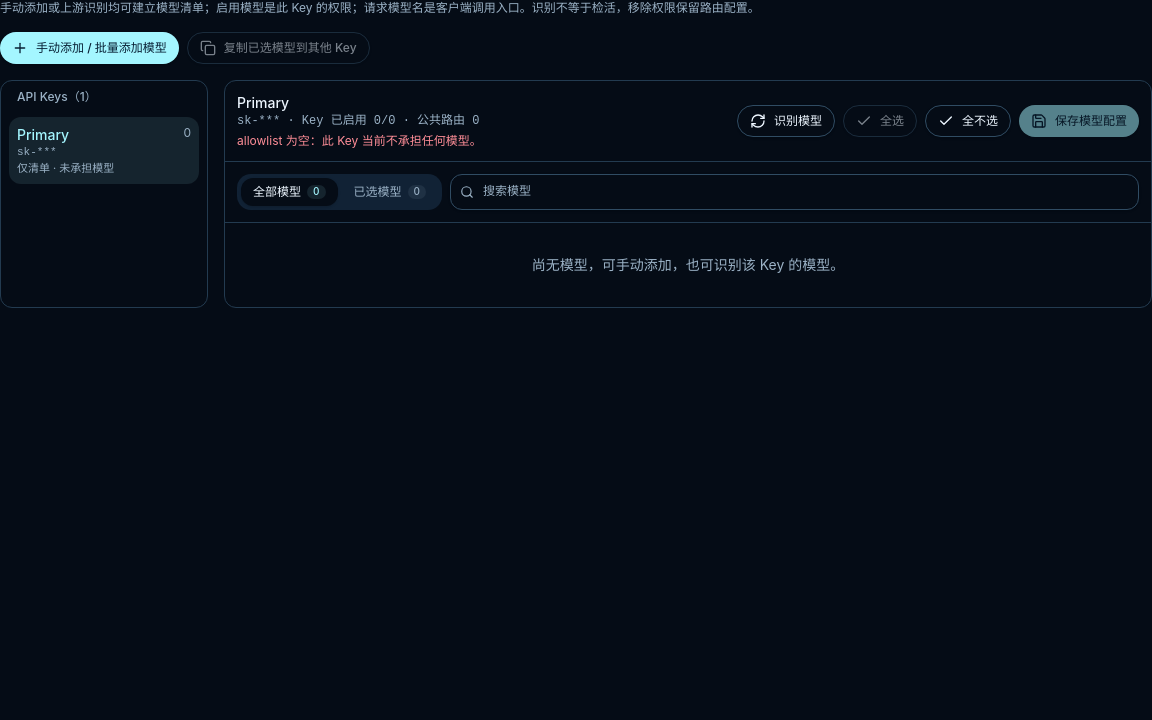
Test: offers manual models for an empty inventory without invoking discovery
The image size is (1152, 720).
Click the button "手动添加 / 批量添加模型" at (89, 48), box [0,32,179,64]
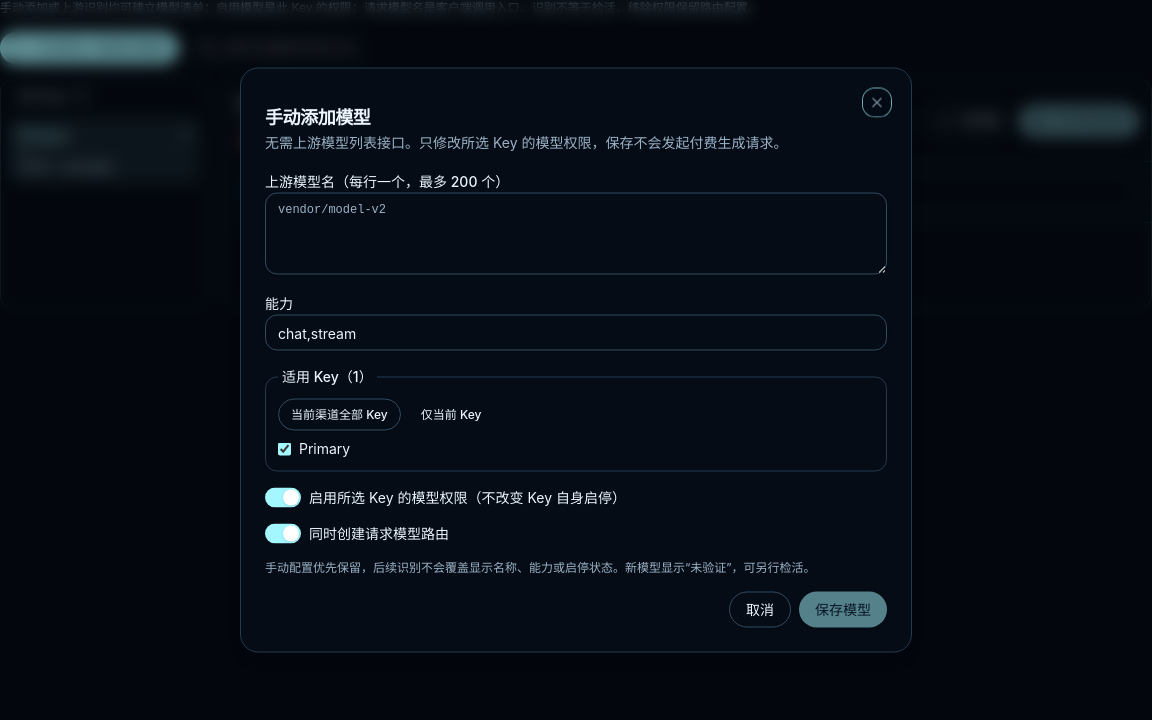
Check: the text "尚无模型，可手动添加，也可识别该 Key 的模型。" is shown, box [532,256,844,273]
Check: the heading "手动添加模型" is shown, box [265,106,370,128]
